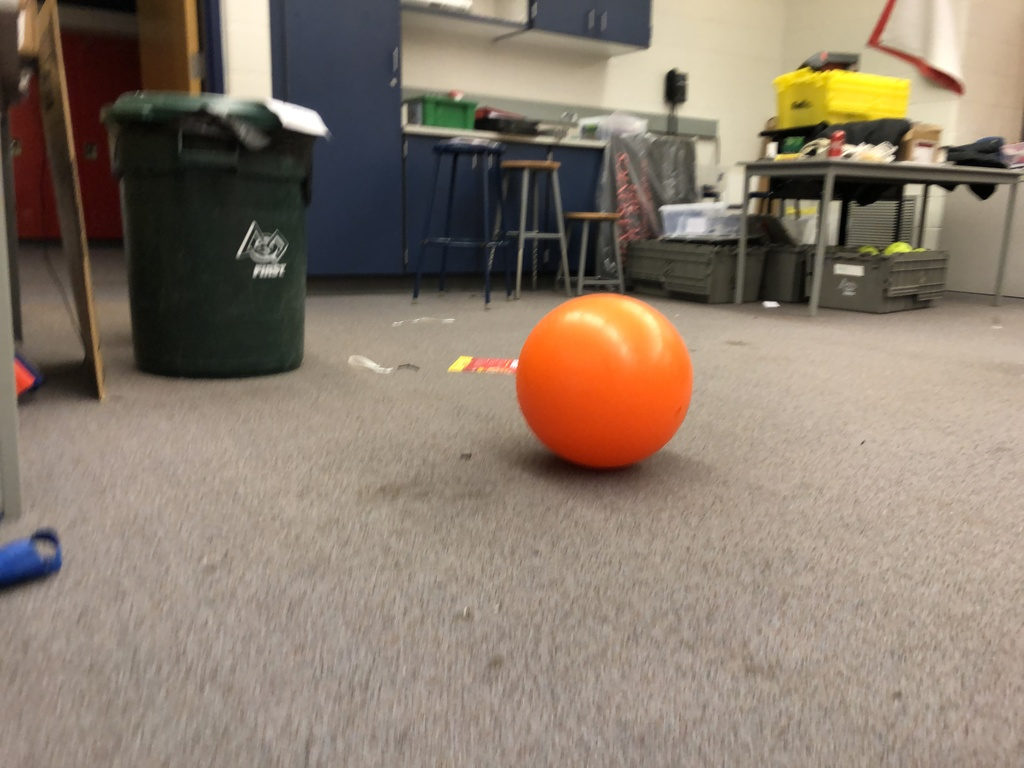cargo: (515, 274, 696, 485)
